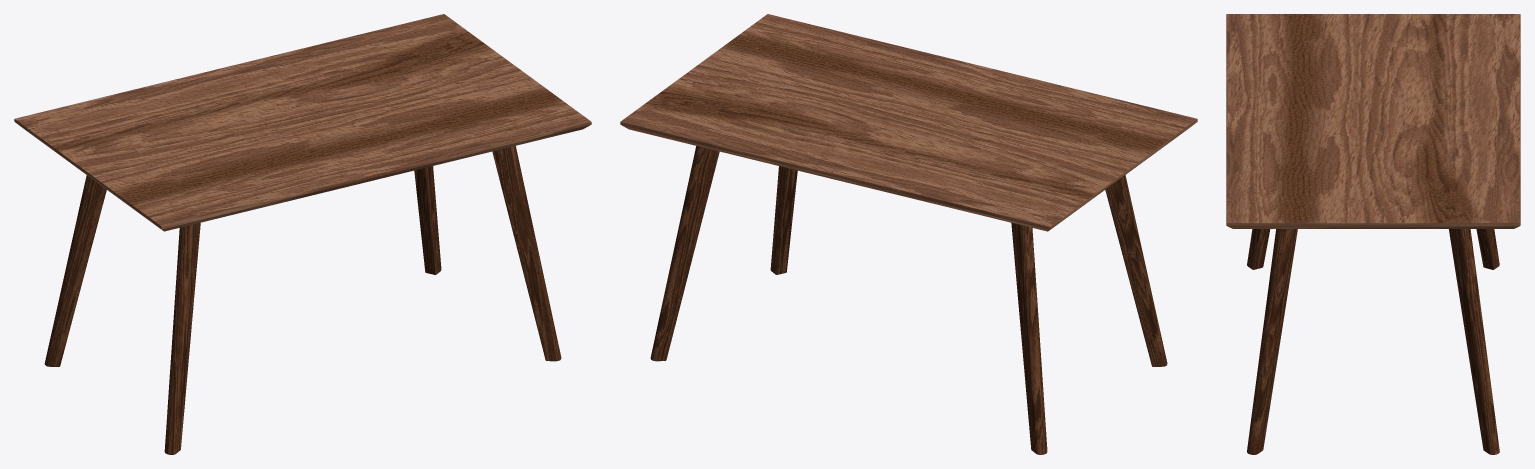
Rendered from abo_B075YQXRJM.glb.
3 renders of one model, left to right at view 1: azimuth 30°, elevation 25°; view 2: azimuth 150°, elevation 25°; view 3: azimuth 270°, elevation 25°, orthographic.
Parts seen in each view (by area): view 1: RootNode; view 2: RootNode; view 3: RootNode.
Part boxes in pixels (bbox=[...]): RootNode: bbox=[14, 14, 591, 454]; RootNode: bbox=[620, 14, 1197, 454]; RootNode: bbox=[1226, 14, 1520, 454].
Size of the model in its own units: 1.35 by 0.7238 by 0.8014.
Materials: 1 (1 with a texture image).
